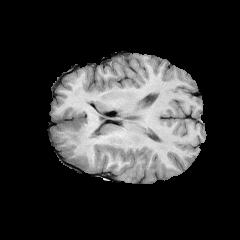glioma: (52, 112, 115, 154)
